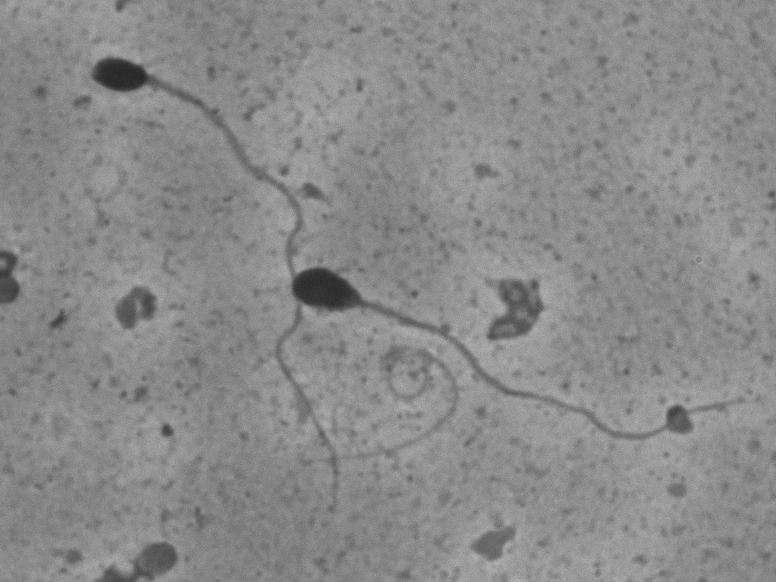Abnormal: (282, 256, 755, 458)
Normal: (83, 35, 357, 525)
